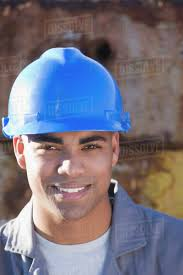Person_wearing_helmet: (0, 43, 137, 158)
